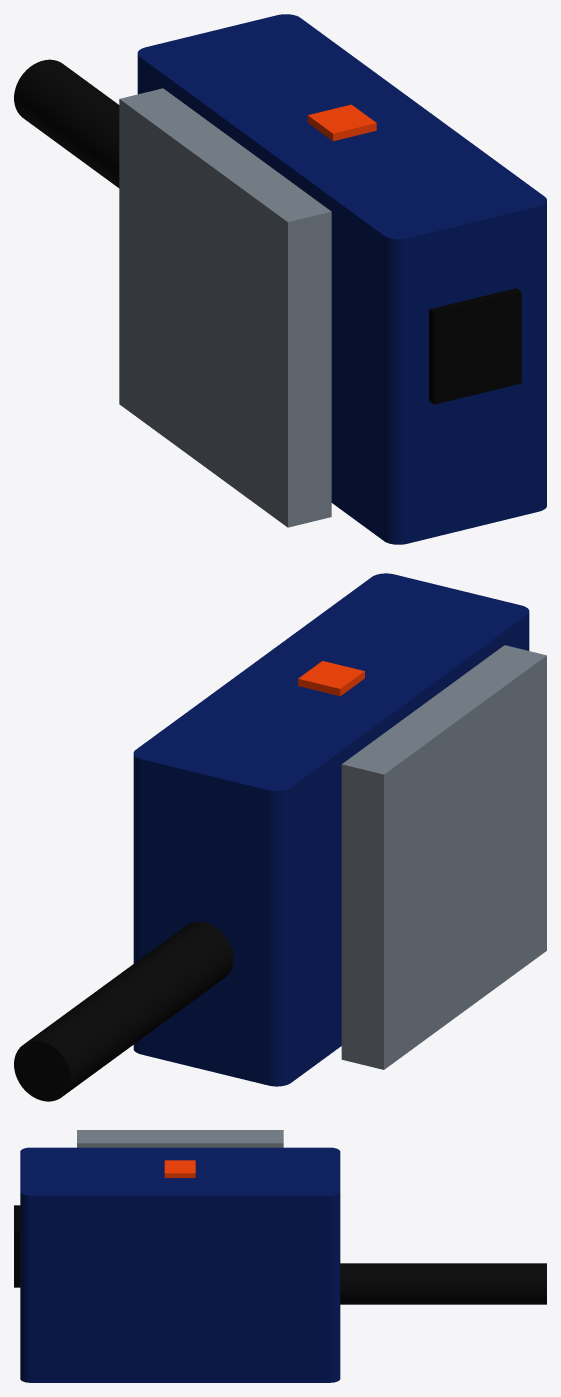
Rendered from photo_sensor.glb.
3 views of the same model, one above another, from view 1: azimuth 30°, elevation 25°; view 2: azimuth 150°, elevation 25°; view 3: azimuth 270°, elevation 25° (orthographic). The views are drawn at different scales.
Visible parts, largest first — view 1: photo_sensor; view 2: photo_sensor; view 3: photo_sensor.
Boxes of the visible parts, x1,y1,x2,y2 form: photo_sensor: (14, 14, 546, 544); photo_sensor: (14, 573, 546, 1101); photo_sensor: (14, 1130, 546, 1382).
Size of the model in its own units: 0.015 by 0.0205 by 0.0516.
